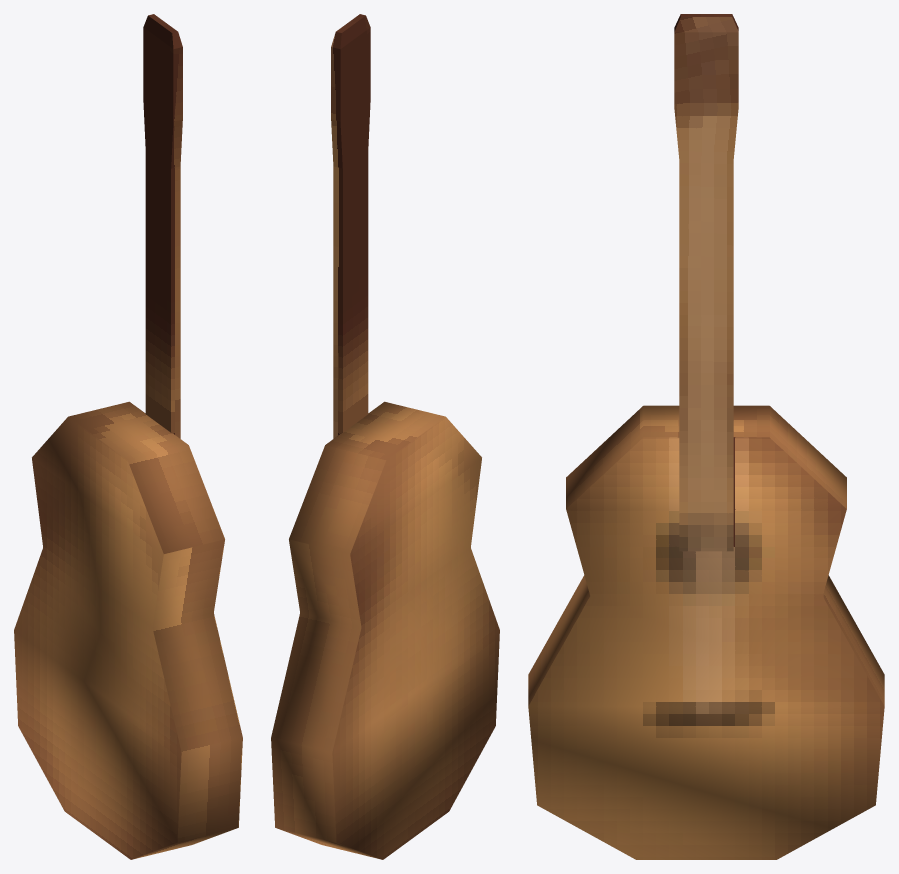
File: guitar.glb
The picture shows the model from 3 angles, left to right: view 1: azimuth 30°, elevation 25°; view 2: azimuth 150°, elevation 25°; view 3: azimuth 270°, elevation 25°; orthographic projection. The views are drawn at different scales.
Visible parts, largest first — view 1: Cube; view 2: Cube; view 3: Cube.
Part boxes in pixels (x1=…): Cube: x1=14, y1=14, x2=242, y2=859; Cube: x1=271, y1=14, x2=499, y2=859; Cube: x1=528, y1=14, x2=884, y2=859.
Bounding box in the file's own units: 0.408 × 4.43 × 1.69.
Materials: 1 (1 with a texture image).
